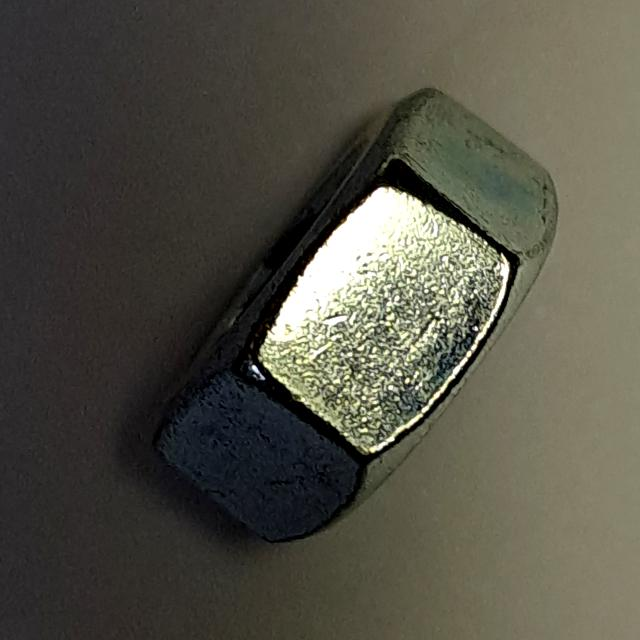Side_Excellent: (132, 79, 569, 555)
